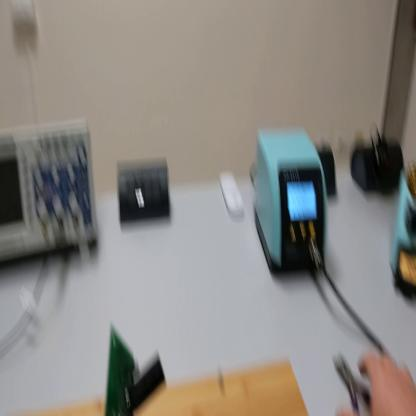hand: (361, 351, 416, 415)
high voltage board: (98, 325, 167, 416)
oscilloscope: (1, 123, 102, 278)
pliers: (332, 352, 372, 414)
socket: (353, 132, 405, 196), (317, 149, 337, 199)
welder base: (391, 166, 416, 300)
welder station: (254, 128, 331, 279)
working area: (32, 361, 311, 416)
